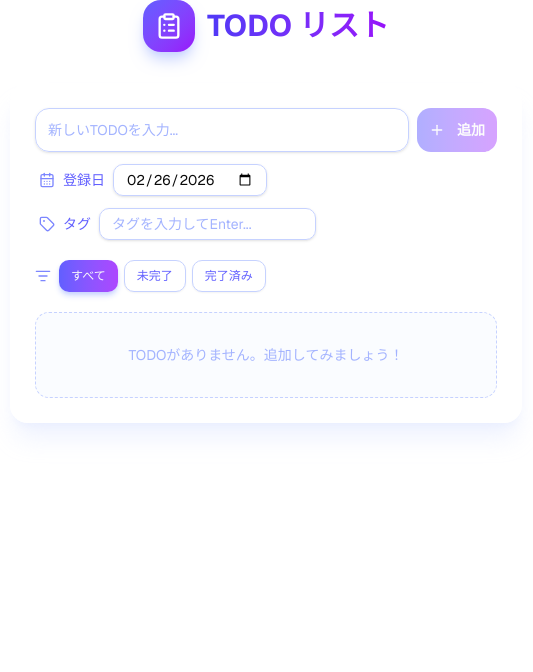
Test case: TodoList › フィルター適用中に該当なしの場合メッセージが表示される
Type "タスク" into the field with placeholder "新しいTODOを入力...". click: (222, 130)
box: [35,108,409,152]
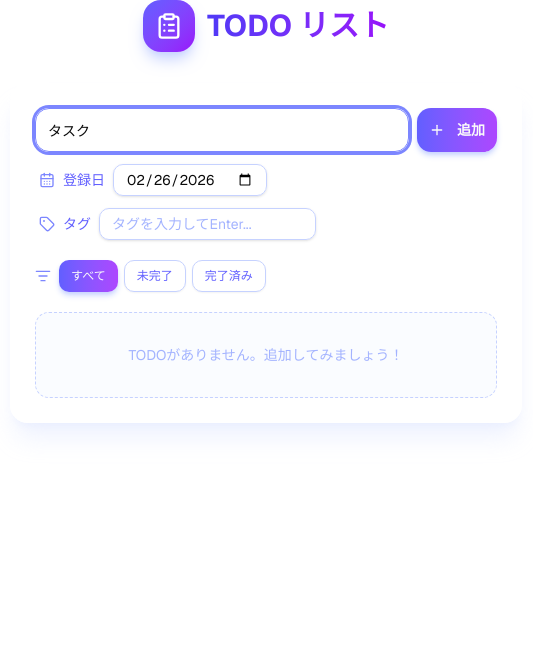
Click the button "追加". click: (457, 130)
box: [417,108,497,152]
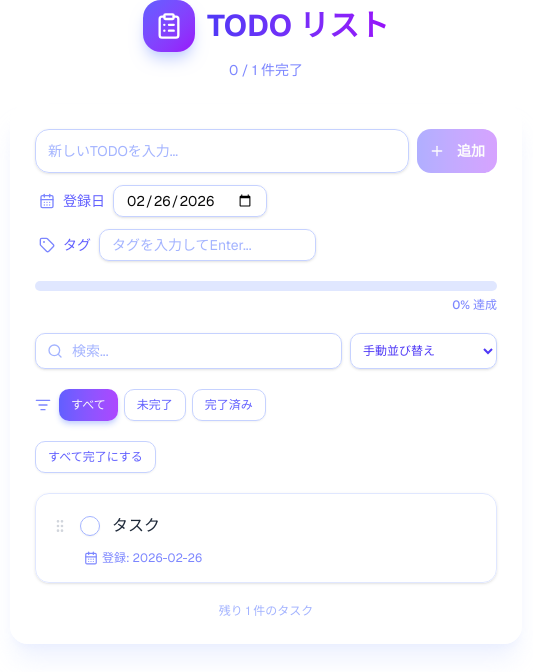
Click the button "完了済み". click: (229, 405)
box: [192,389,266,421]
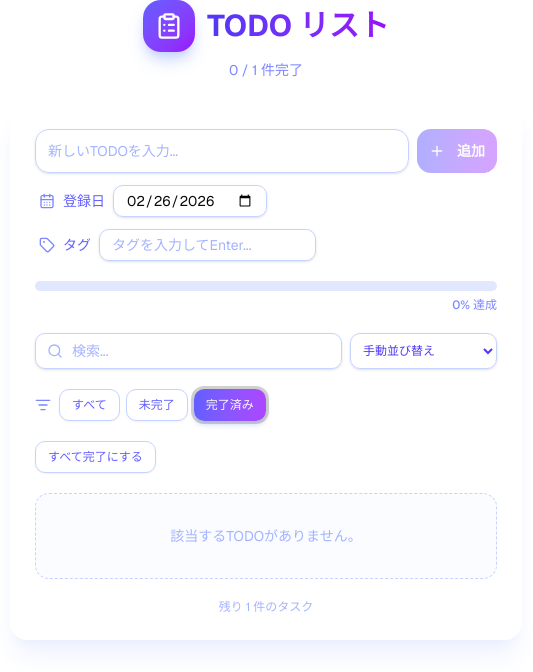
Expected: the text "該当するTODOがありません。" is shown, [170,527,362,545]
